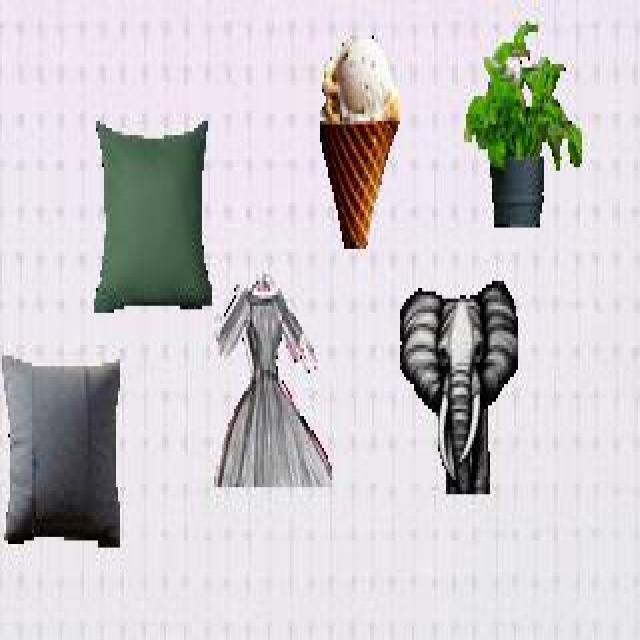Other Objects: (462, 19, 583, 230), (215, 273, 332, 487), (1, 352, 122, 550), (93, 119, 213, 311)
